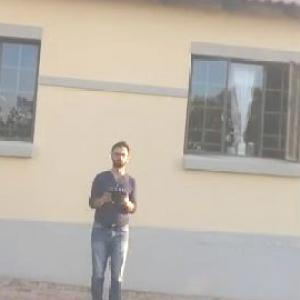follow: (82, 134, 141, 299)
